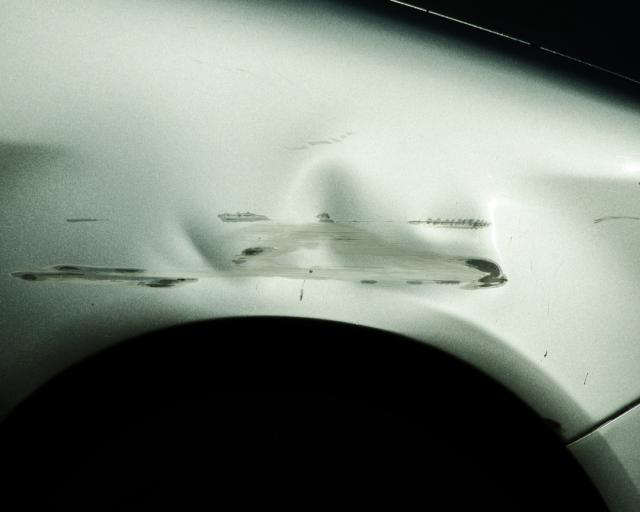dent: (169, 158, 507, 298)
scratch: (5, 256, 181, 295)
